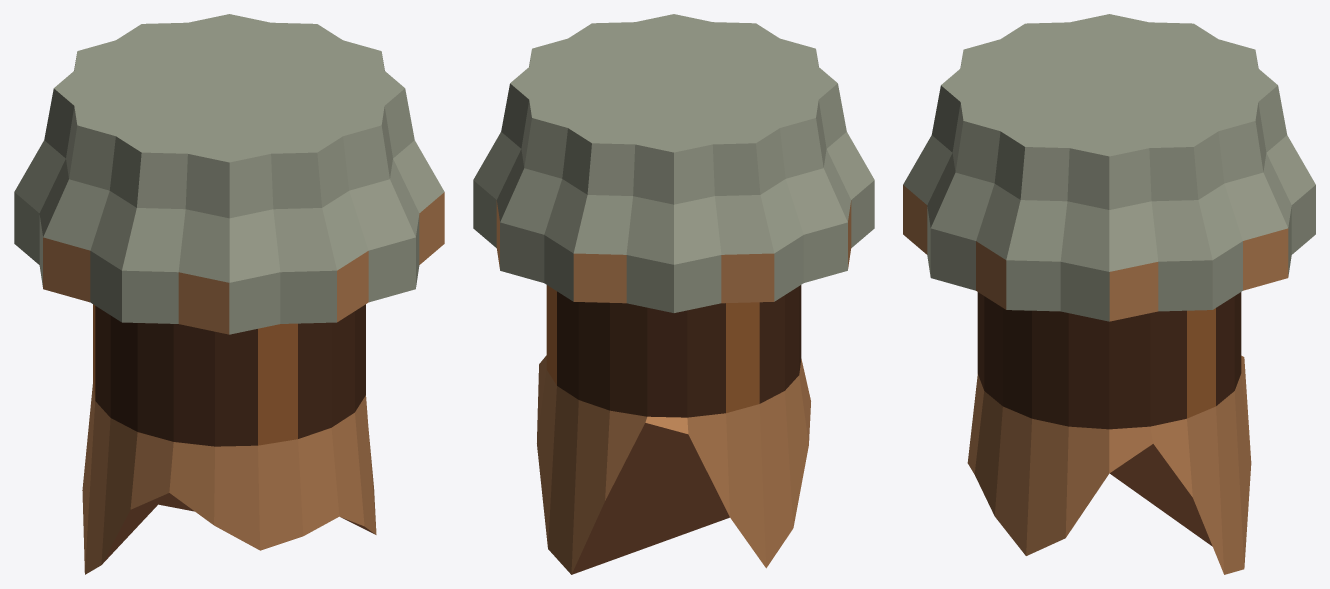
Rendered from beer_bottle_piece_neck.glb.
The picture shows the model from 3 angles, left to right: view 1: azimuth 30°, elevation 25°; view 2: azimuth 150°, elevation 25°; view 3: azimuth 270°, elevation 25°; orthographic projection. The views are drawn at different scales.
Visible parts, largest first — view 1: Retained original bottle closure, Jagged shoulder and sealed neck; view 2: Retained original bottle closure, Jagged shoulder and sealed neck; view 3: Retained original bottle closure, Jagged shoulder and sealed neck.
Part boxes in pixels (left/top/right/bottom): Retained original bottle closure: left=14, top=14, right=444, bottom=334; Jagged shoulder and sealed neck: left=82, top=304, right=376, bottom=574; Retained original bottle closure: left=473, top=14, right=874, bottom=312; Jagged shoulder and sealed neck: left=537, top=285, right=810, bottom=574; Retained original bottle closure: left=903, top=14, right=1315, bottom=321; Jagged shoulder and sealed neck: left=967, top=292, right=1251, bottom=574.
Bounding box in the file's own units: 0.0376 × 0.0468 × 0.0376.
